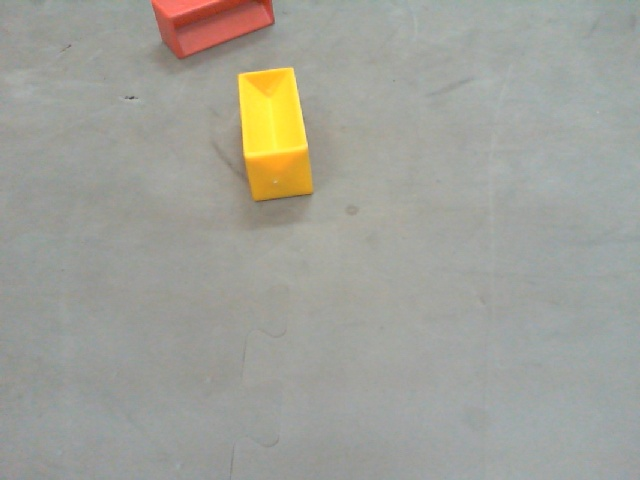RedSample: (149, 1, 278, 59)
YellowSample: (234, 63, 317, 204)
